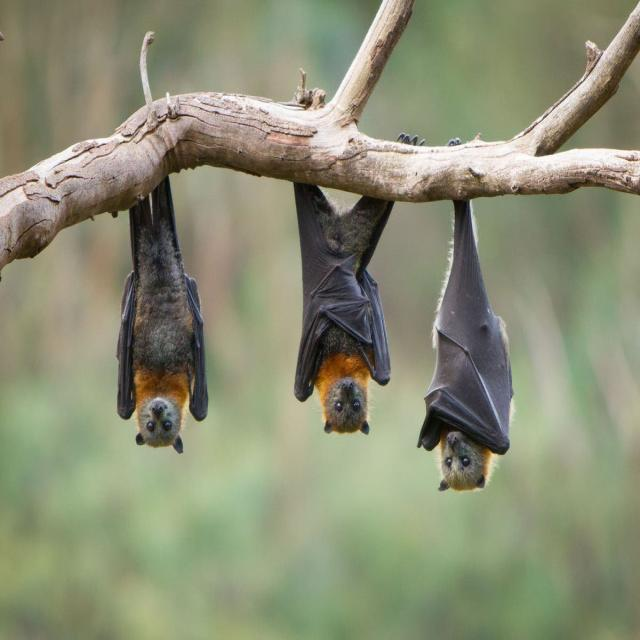Bat: (417, 203, 515, 504), (288, 177, 398, 437), (112, 160, 207, 453)
